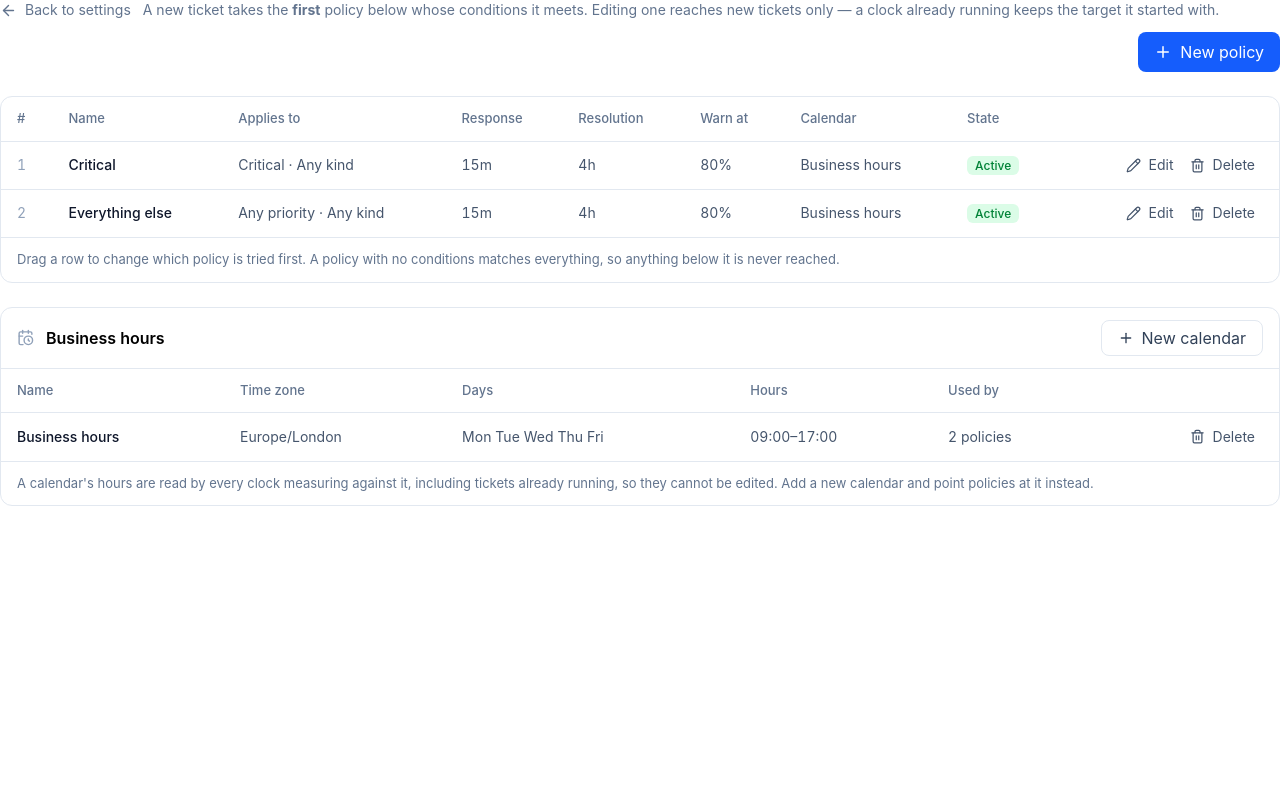
Scenario: editing a policy › leaves every condition open by default
Check: the text "Critical" is shown, box [52,141,222,189]
Click the button "New policy". click: (1209, 52)
box: [1138,32,1279,72]
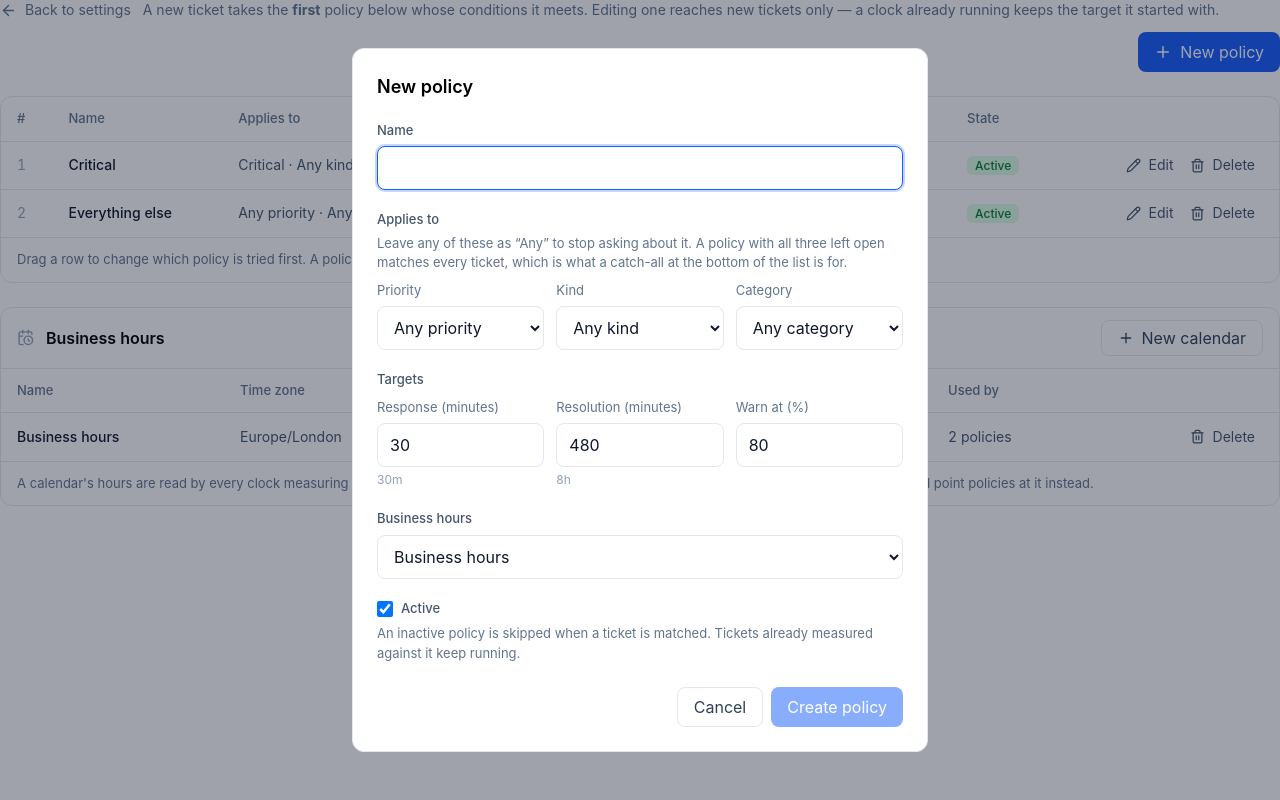
Check: the dropdown labelled "Priority" shows "Any priority", box [377,306,544,350]
Check: the dropdown labelled "Kind" shows "Any kind", box [556,306,724,350]
Check: the dropdown labelled "Category" shows "Any category", box [736,306,903,350]
